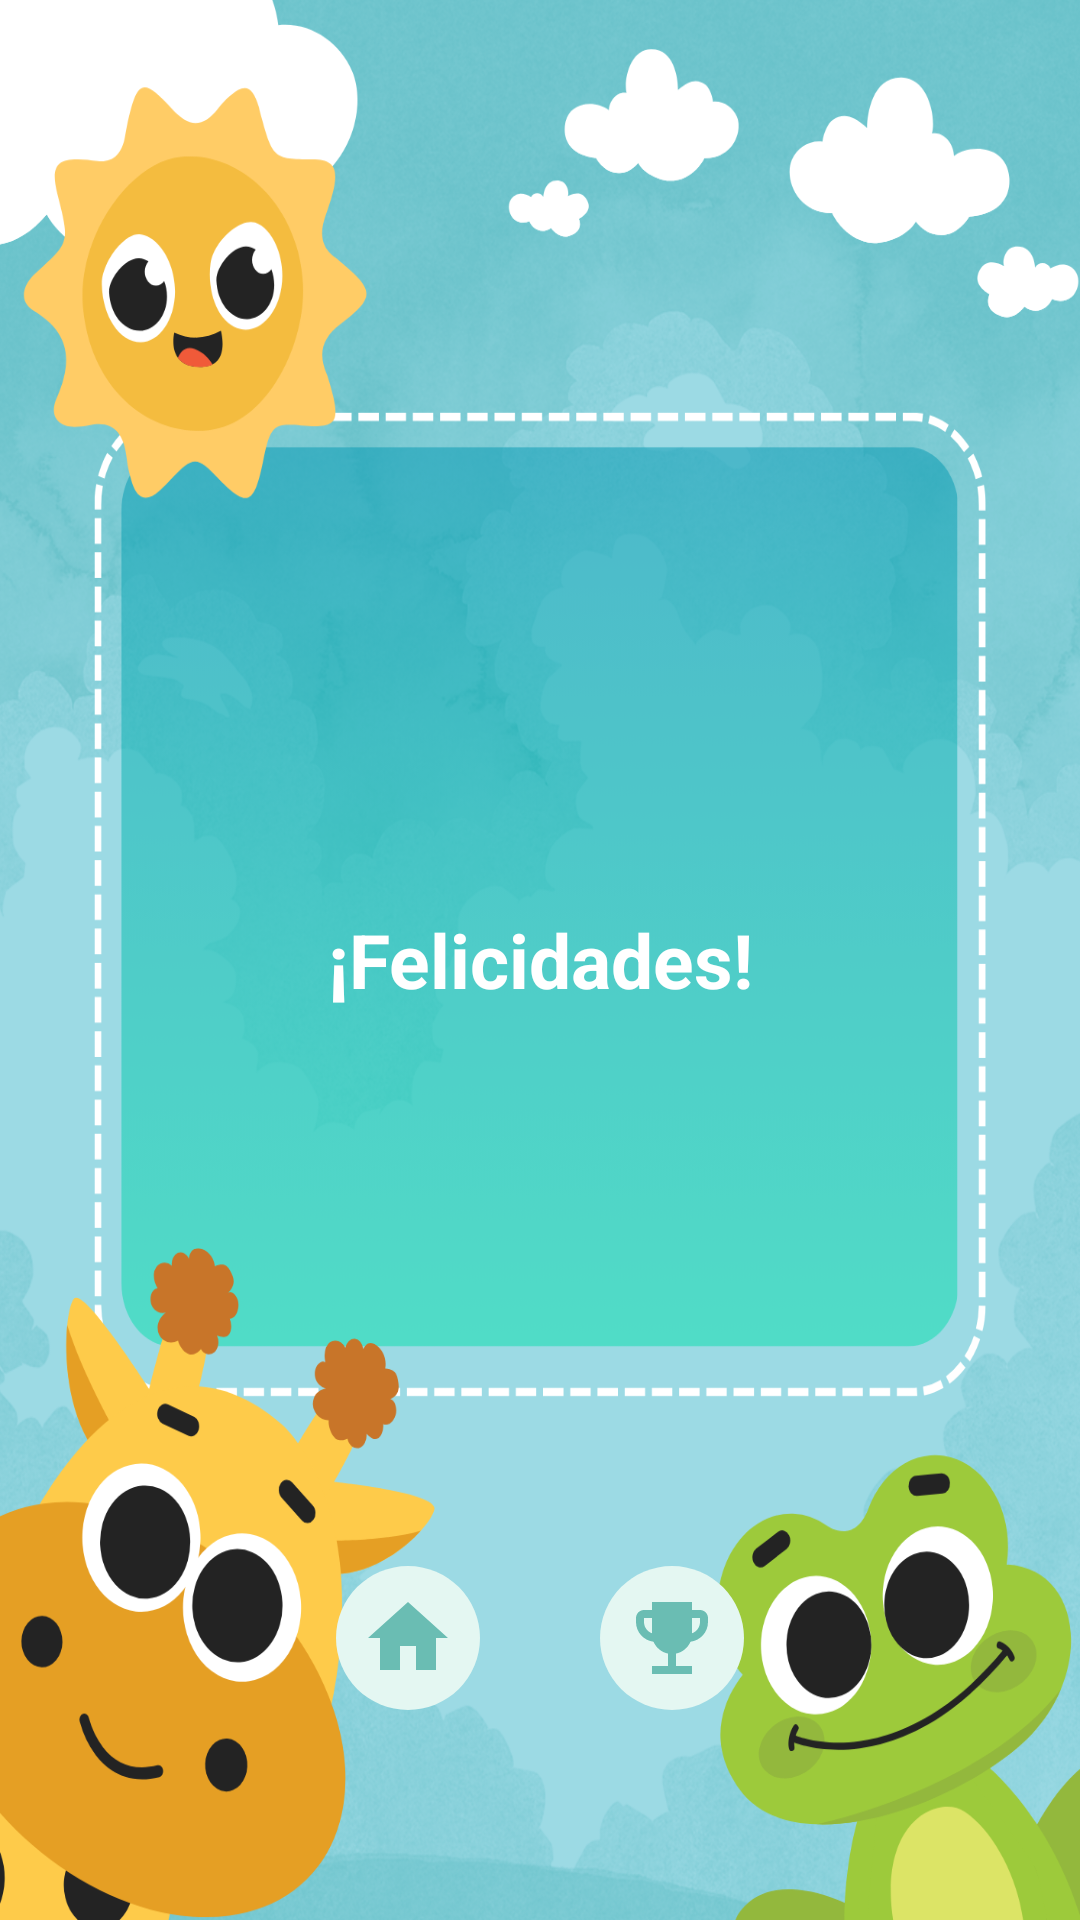

Icons on this 1080w x 1920h Android screen, each with its box as BBox(x1, y1, x2, y2):
Volver al inicio: BBox(336, 1566, 480, 1710)
